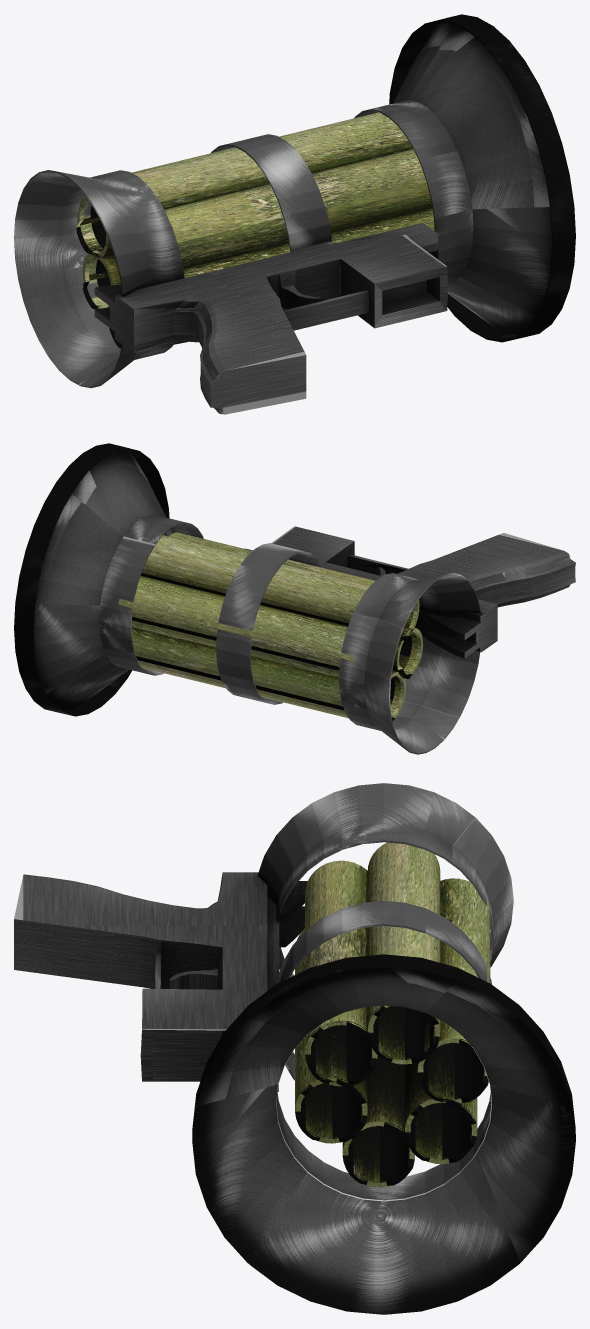
Rendered from ExportedBlenderFBXFile.fbx.
The picture shows the model from 3 angles, top to bottom: view 1: azimuth 30°, elevation 25°; view 2: azimuth 150°, elevation 25°; view 3: azimuth 270°, elevation 25°; orthographic projection. The views are drawn at different scales.
Visible parts, largest first — view 1: Cylinder, Cube_001, Cylinder_003; view 2: Cylinder, Cylinder_003, Cube_001; view 3: Cylinder, Cylinder_003, Cube_001.
Boxes of the visible parts, bbox=[...] form: Cylinder: bbox=[14, 14, 575, 388]; Cube_001: bbox=[94, 222, 447, 414]; Cylinder_003: bbox=[76, 112, 434, 348]; Cylinder: bbox=[14, 443, 480, 754]; Cylinder_003: bbox=[118, 532, 423, 721]; Cube_001: bbox=[245, 526, 575, 658]; Cylinder: bbox=[192, 783, 575, 1314]; Cylinder_003: bbox=[295, 842, 490, 1187]; Cube_001: bbox=[14, 872, 307, 1091].
Size of the model in its own units: 5.7 by 3.73 by 5.46.
